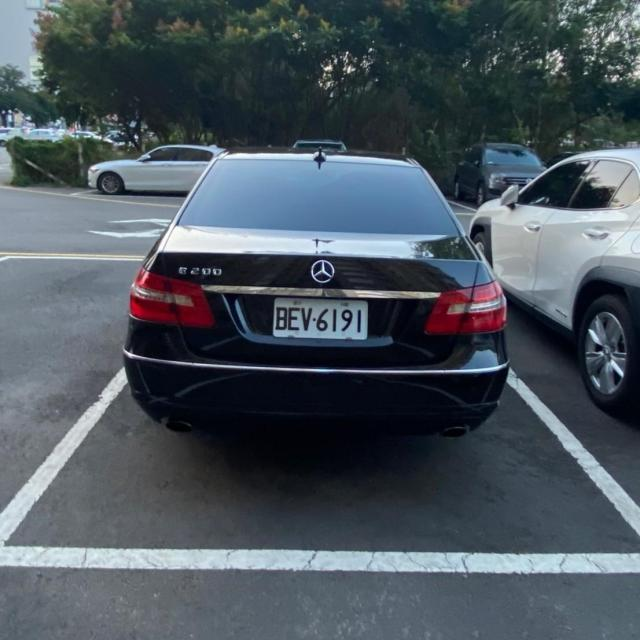W: (272, 294, 370, 344)
